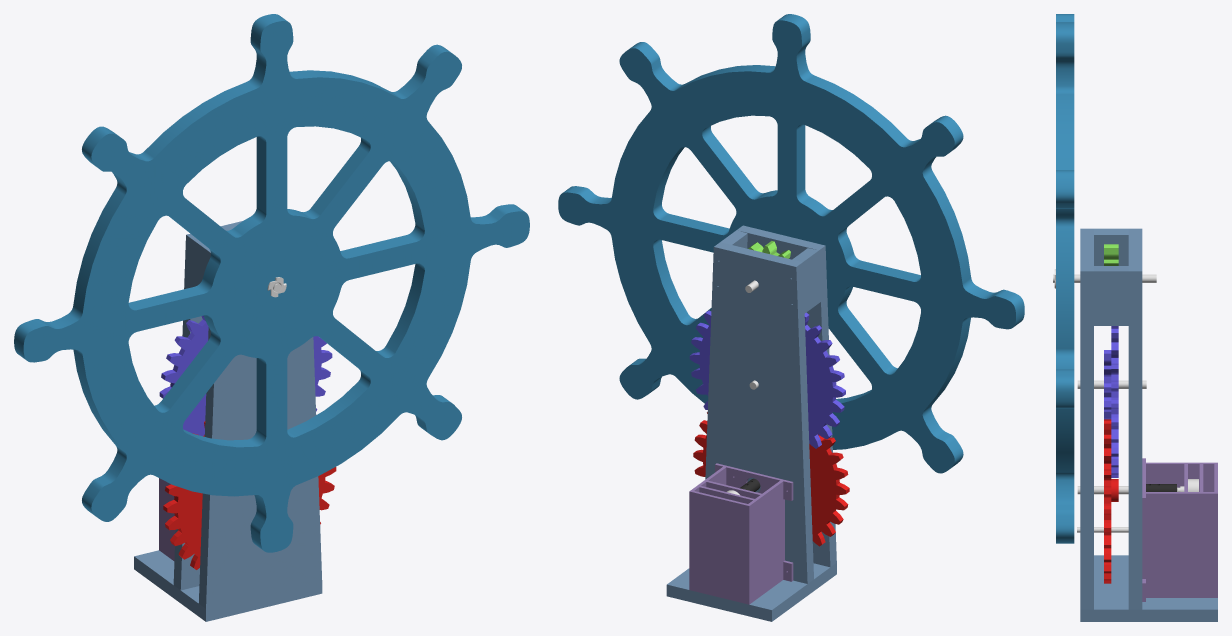
File: altcontroller_textured.glb
The picture shows the model from 3 angles, left to right: view 1: azimuth 30°, elevation 25°; view 2: azimuth 150°, elevation 25°; view 3: azimuth 270°, elevation 25°; orthographic projection. The views are drawn at different scales.
Visible parts, largest first — view 1: SteeringWheel, Case, Case.002, Gear30 (1) (1), Gear30_Limit, Case.001, PotiCase.004; view 2: SteeringWheel, Case.001, PotiCase.001, Gear30 (1) (1), PotiCase.004, Gear30_Limit, Case.002, Case, PotiCase.002, Case.004; view 3: SteeringWheel, PotiCase.005, Case.001, Case, Case.002, Case.003, PotiCase.004, Gear30_Limit, Gear30 (1) (1), Case.004, Gear10, PotiCase.002 (+3 smaller).
Boxes of the visible parts, x1,y1,x2,y2 form: SteeringWheel: (14, 14, 529, 552); Case: (198, 327, 322, 608); Case.002: (134, 550, 322, 621); Gear30 (1) (1): (159, 315, 332, 436); Gear30_Limit: (163, 421, 336, 569); Case.001: (173, 221, 242, 590); PotiCase.004: (159, 478, 175, 560); SteeringWheel: (558, 14, 1024, 473); Case.001: (705, 242, 813, 583); PotiCase.001: (689, 491, 750, 604); Gear30 (1) (1): (689, 310, 845, 448); PotiCase.004: (746, 480, 784, 602); Gear30_Limit: (693, 412, 849, 546); Case.002: (666, 563, 836, 621); Case: (737, 225, 836, 567); PotiCase.002: (715, 463, 793, 581); Case.004: (792, 248, 820, 313); SteeringWheel: (1056, 14, 1074, 543); PotiCase.005: (1142, 492, 1217, 597); Case.001: (1128, 228, 1142, 609); Case: (1080, 228, 1093, 609); Case.002: (1080, 555, 1217, 621); Case.003: (1094, 266, 1128, 325); PotiCase.004: (1146, 462, 1214, 491); Gear30_Limit: (1104, 419, 1111, 583); Gear30 (1) (1): (1111, 326, 1118, 477); Case.004: (1094, 228, 1128, 265); Gear10: (1104, 350, 1111, 419); PotiCase.002: (1142, 458, 1145, 601).
Bounding box in the file's own units: 61 × 68.51 × 17.96.
